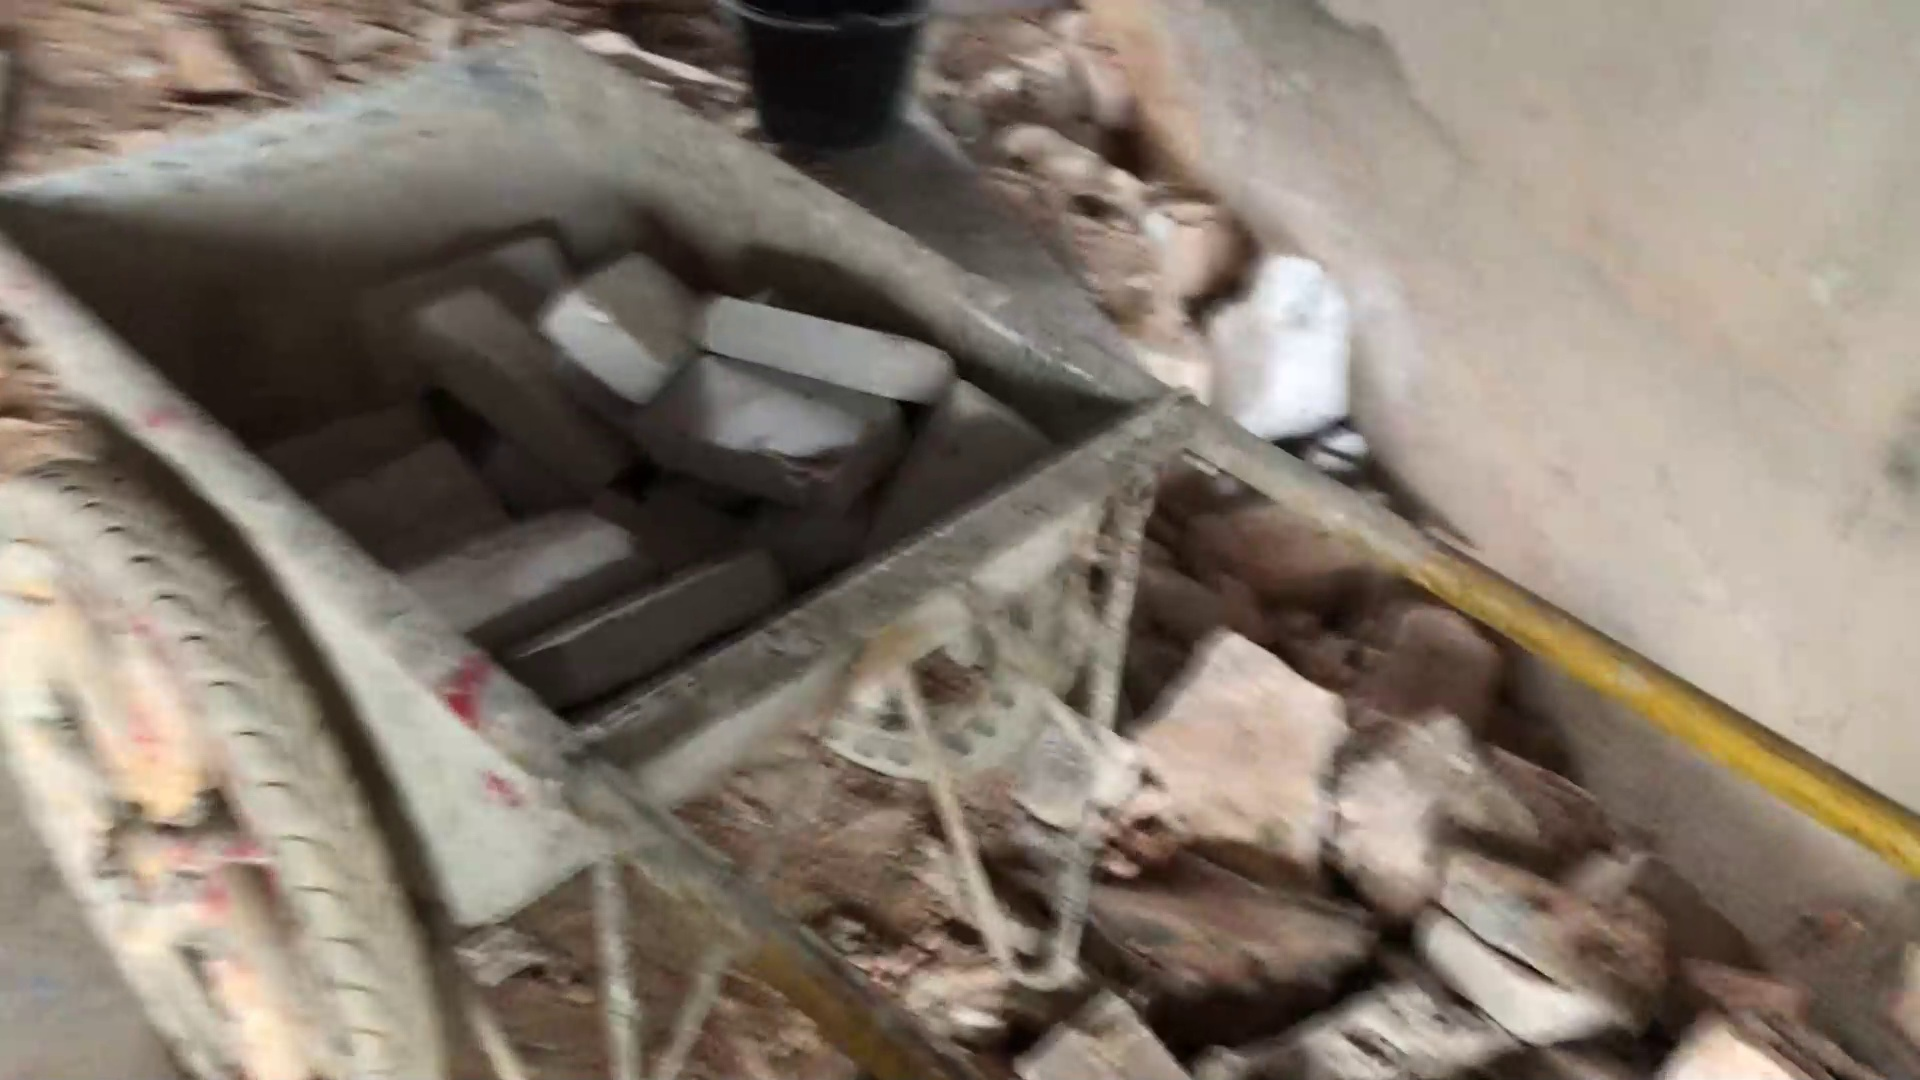handcart: (1, 32, 1640, 1073)
